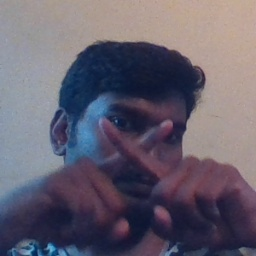X: (79, 105, 190, 229)
